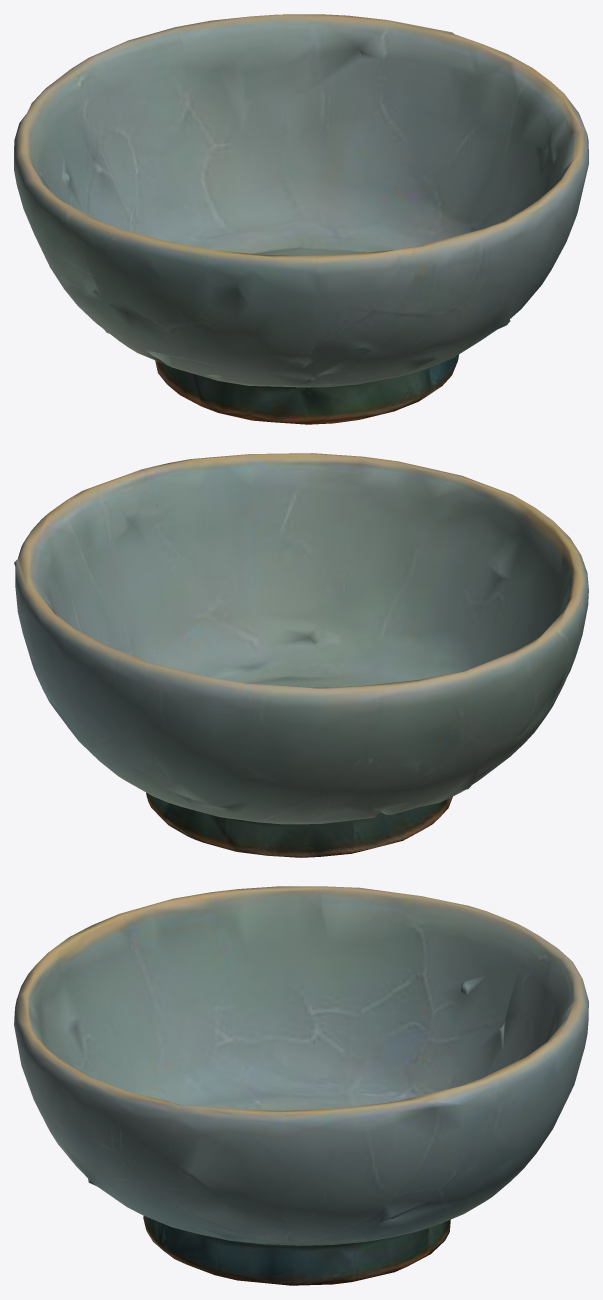
Rendered from bowl_jade.glb.
3 renders of one model, top to bottom at view 1: azimuth 30°, elevation 25°; view 2: azimuth 150°, elevation 25°; view 3: azimuth 270°, elevation 25°, orthographic.
Visible parts, largest first — view 1: tripo_node_b9e3aa66-1395-458c-ba15-1611c955ec3c; view 2: tripo_node_b9e3aa66-1395-458c-ba15-1611c955ec3c; view 3: tripo_node_b9e3aa66-1395-458c-ba15-1611c955ec3c.
Part boxes in pixels (x1=…): tripo_node_b9e3aa66-1395-458c-ba15-1611c955ec3c: x1=14, y1=14, x2=588, y2=424; tripo_node_b9e3aa66-1395-458c-ba15-1611c955ec3c: x1=14, y1=453, x2=588, y2=857; tripo_node_b9e3aa66-1395-458c-ba15-1611c955ec3c: x1=14, y1=886, x2=588, y2=1285.
Size of the model in its own units: 0.9958 by 0.4438 by 0.9984.
1 material, 1 textured.
